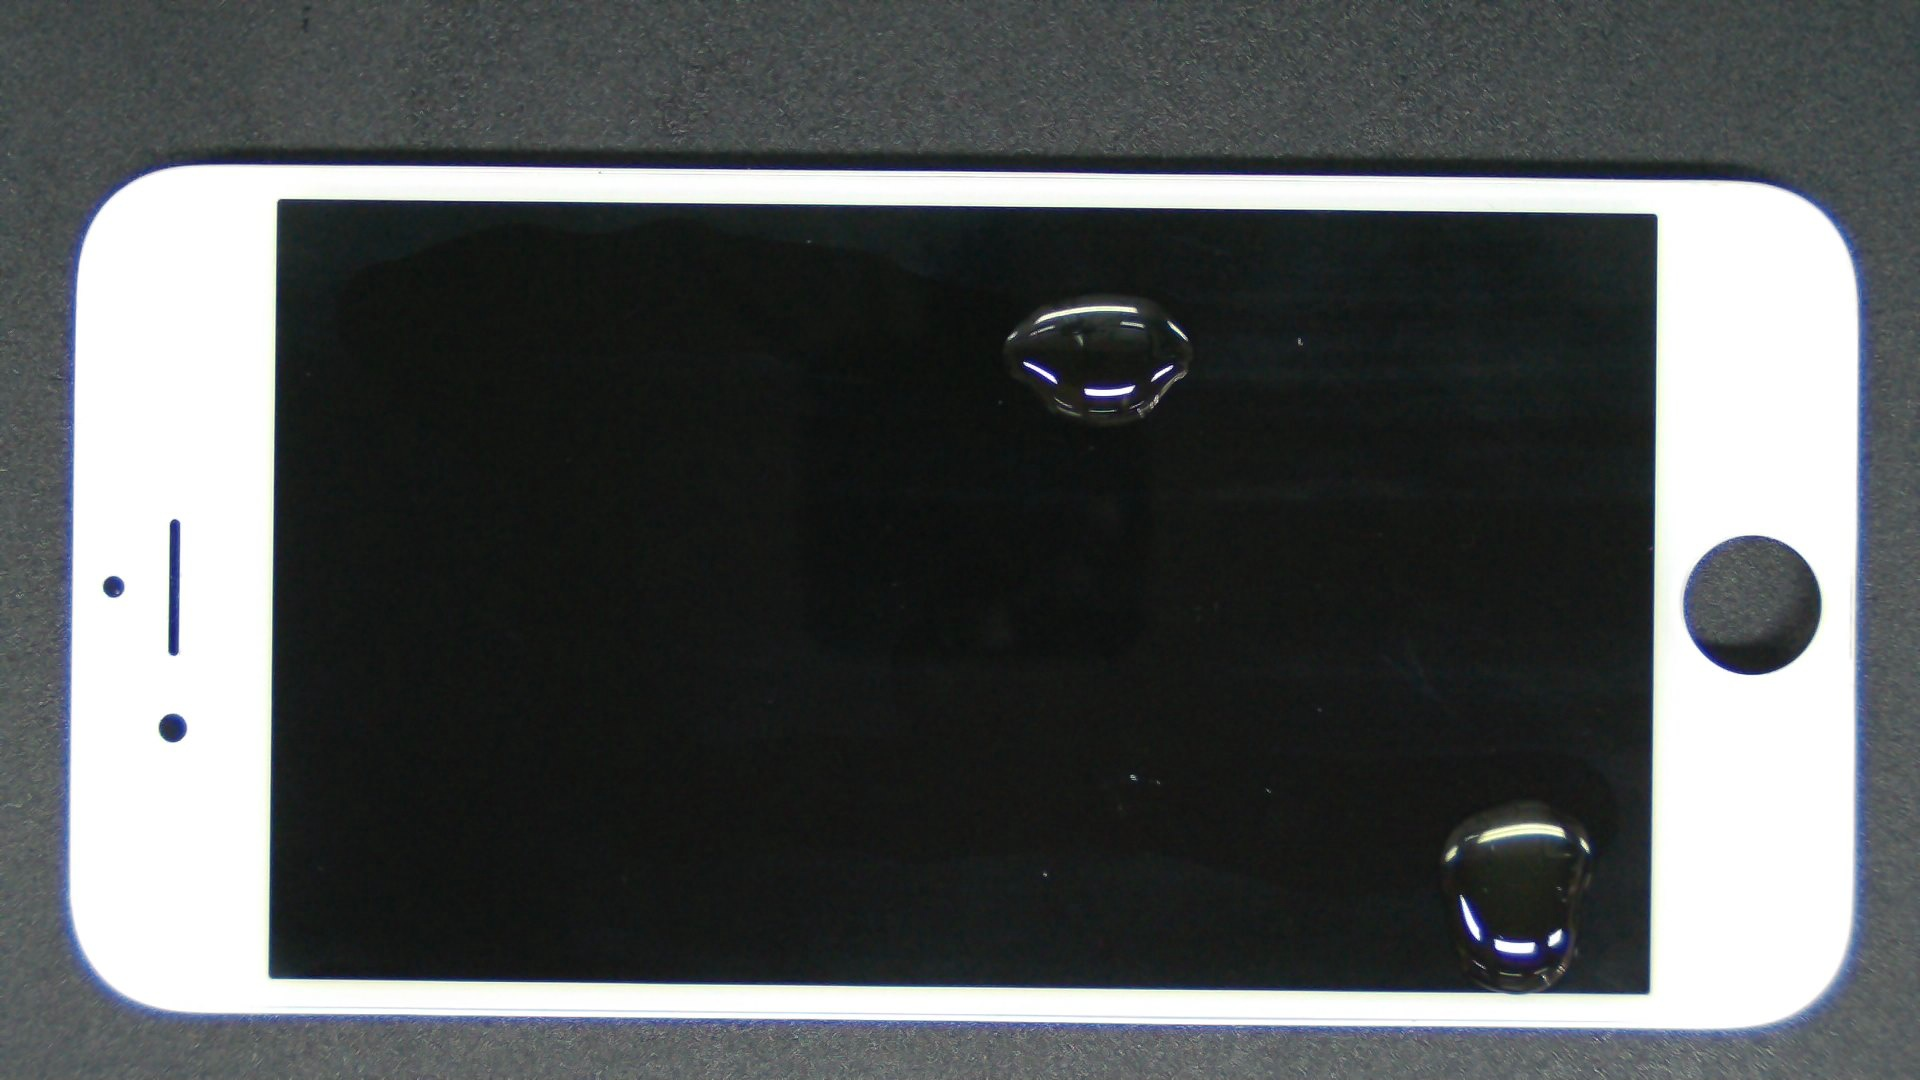oil: (764, 400, 1920, 1080), (545, 146, 1631, 440)
